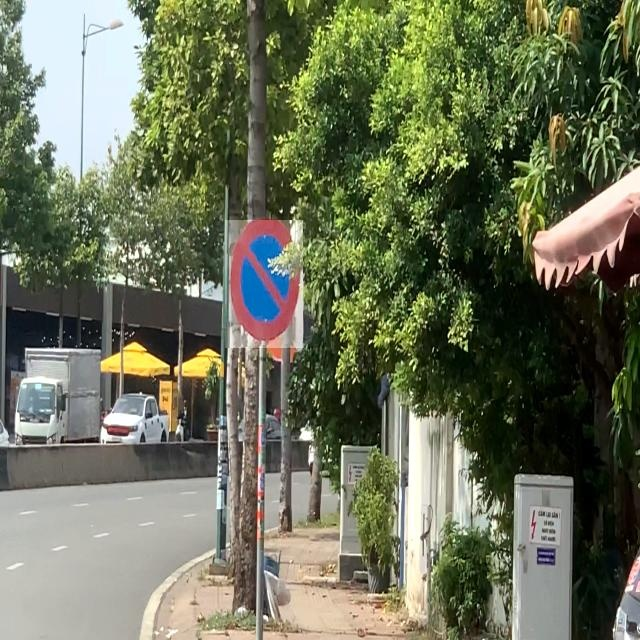bien_cam: (225, 220, 303, 348)
